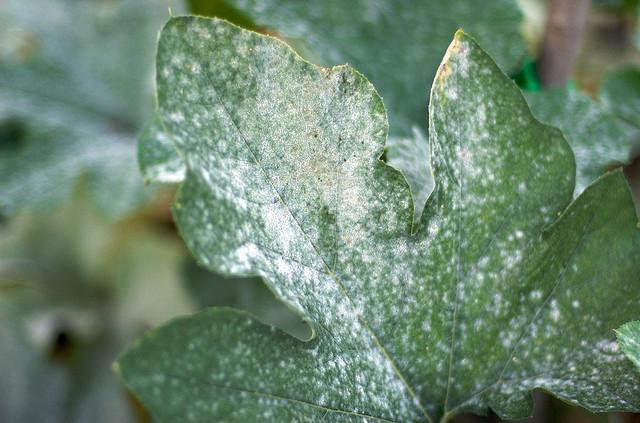Squash Powdery mildew leaf: (115, 8, 638, 414)
